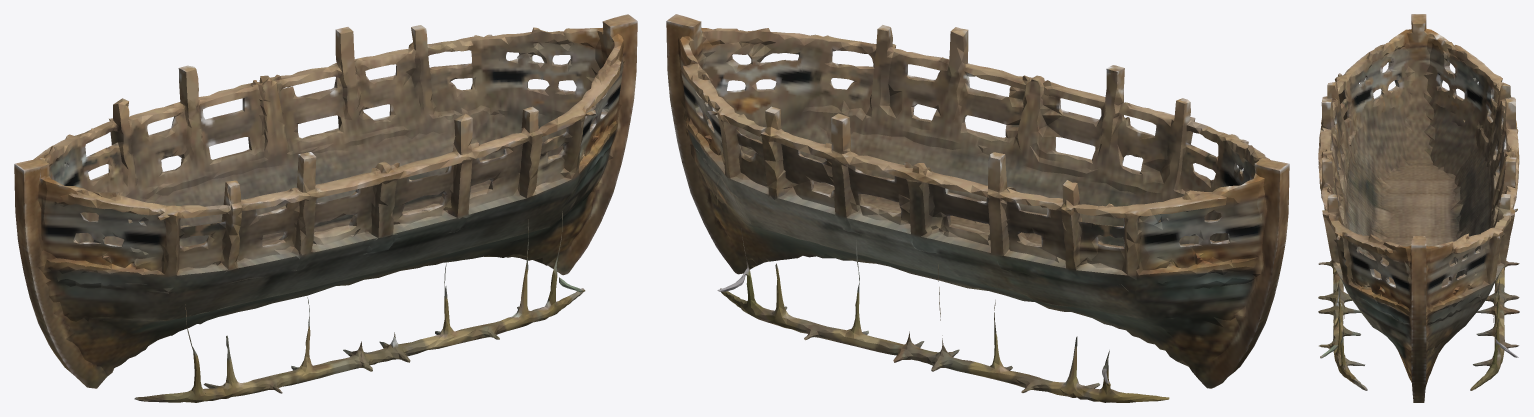
File: shipwreck.glb
The picture shows the model from 3 angles, left to right: view 1: azimuth 30°, elevation 25°; view 2: azimuth 150°, elevation 25°; view 3: azimuth 270°, elevation 25°; orthographic projection. The views are drawn at different scales.
Parts seen in each view (by area): view 1: Shipwreck; view 2: Shipwreck; view 3: Shipwreck.
Boxes of the visible parts, <box> form: Shipwreck: <box>14,14,637,402</box>; Shipwreck: <box>666,14,1289,402</box>; Shipwreck: <box>1318,14,1519,402</box>.
Size of the model in its own units: 1.89 by 0.6991 by 0.6961.
Materials: 1 (1 with a texture image).
